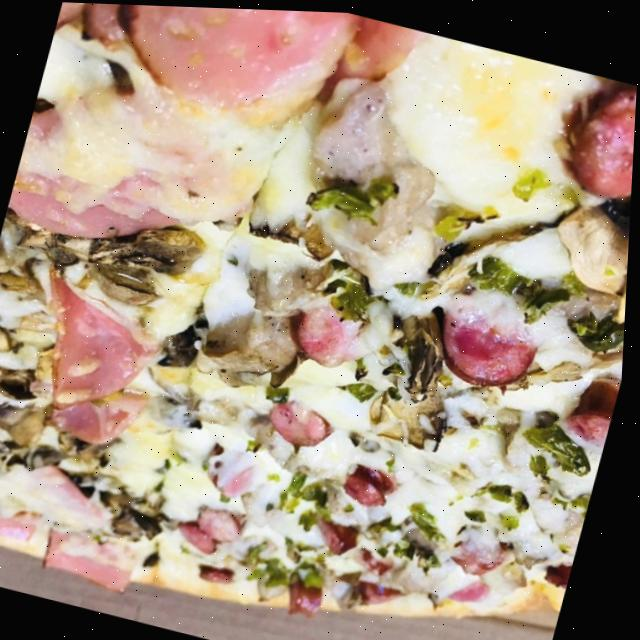mushrooms: (0, 178, 214, 330), (414, 184, 553, 326), (545, 126, 636, 298), (192, 288, 324, 404), (231, 239, 332, 326), (380, 297, 462, 403), (362, 375, 463, 459), (0, 199, 66, 305), (152, 300, 229, 389), (0, 297, 73, 381), (243, 200, 341, 262), (92, 479, 173, 547), (0, 425, 75, 487), (293, 244, 369, 305), (54, 416, 129, 477), (520, 340, 593, 402), (0, 382, 58, 449), (149, 385, 214, 436), (0, 350, 56, 409), (581, 321, 628, 372), (0, 324, 21, 401), (140, 540, 174, 572)
pizza: (0, 0, 640, 640)
